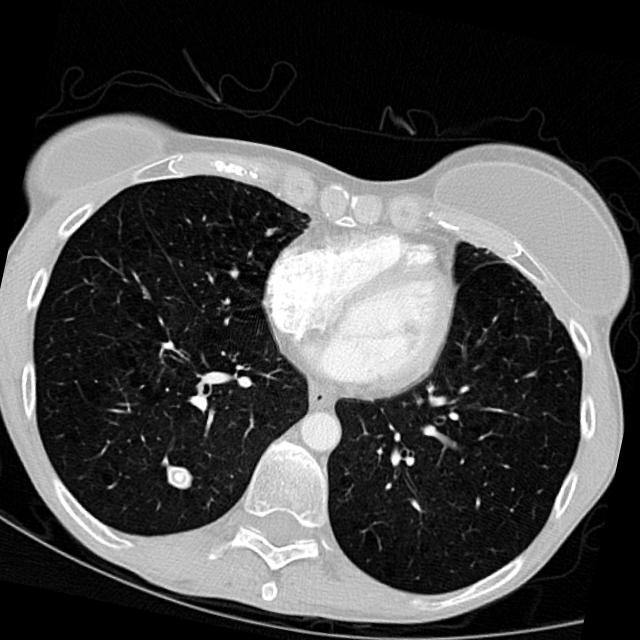nodule: (144, 444, 210, 508)
